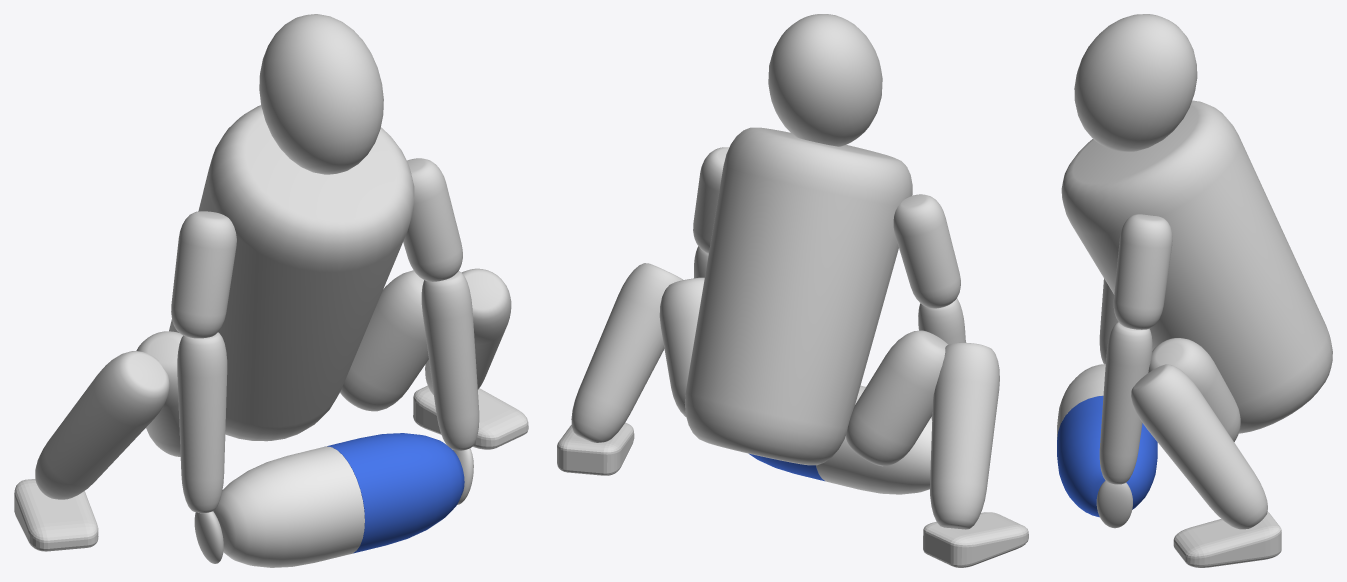
The model's file is Doll4.fbx.
3 views of the same model, side by side, from view 1: azimuth 30°, elevation 25°; view 2: azimuth 150°, elevation 25°; view 3: azimuth 270°, elevation 25° (orthographic). The views are drawn at different scales.
Parts seen in each view (by area): view 1: 円柱.043, 薬.002, 球.014, 円柱.044, 円柱.047, 円柱.040, 円柱.042, 円柱.046, 円柱.039, 立方体.009, 円柱.041, 立方体.008 (+2 smaller); view 2: 円柱.043, 球.014, 円柱.044, 円柱.041, 円柱.045, 円柱.046, 薬.002, 立方体.009, 円柱.042, 立方体.008, 円柱.039, 円柱.047; view 3: 円柱.043, 球.014, 円柱.041, 薬.002, 円柱.040, 円柱.039, 立方体.008, 円柱.042, 球.013, 円柱.047.
Boxes of the visible parts, x1,y1,x2,y2 form: 円柱.043: (169,105,414,441); 薬.002: (213,433,464,567); 球.014: (259,14,383,174); 円柱.044: (35,351,169,499); 円柱.047: (177,332,227,513); 円柱.040: (421,271,479,450); 円柱.042: (340,270,428,411); 円柱.046: (171,211,236,338); 円柱.039: (403,158,462,281); 立方体.009: (14,479,98,551); 円柱.041: (425,268,511,394); 立方体.008: (413,385,528,449); 円柱.043: (684,127,912,465); 球.014: (768,14,882,146); 円柱.044: (930,342,999,529); 円柱.041: (571,263,682,442); 円柱.045: (846,330,948,466); 円柱.046: (893,194,960,308); 薬.002: (749,385,932,494); 立方体.009: (923,512,1028,567); 円柱.042: (659,277,704,416); 立方体.008: (557,422,634,475); 円柱.039: (693,147,729,253); 円柱.047: (918,298,965,420); 円柱.043: (1061,100,1332,433); 球.014: (1074,14,1197,151); 円柱.041: (1131,364,1267,529); 薬.002: (1057,364,1157,517); 円柱.040: (1099,322,1152,484); 円柱.039: (1113,214,1172,329); 立方体.008: (1173,512,1281,567); 円柱.042: (1148,338,1240,441); 球.013: (1096,480,1132,528); 円柱.047: (1099,278,1118,363).
Bounding box in the file's own units: 0.9724 × 0.9733 × 0.5193.
